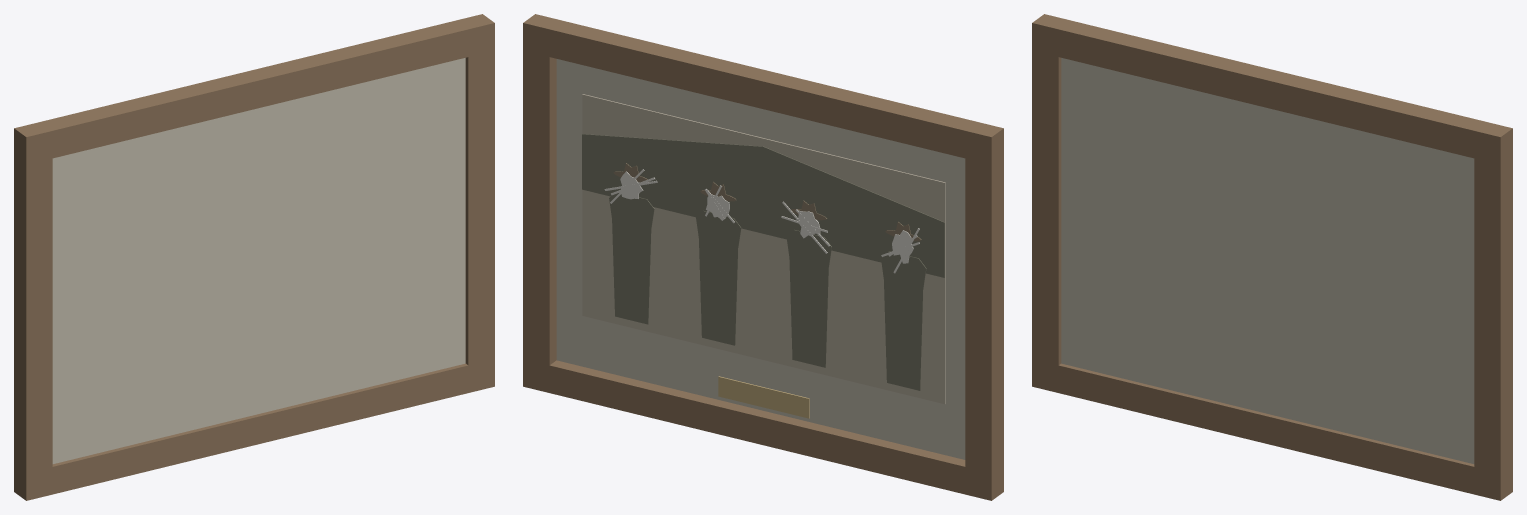
File: ss_staff_photo_a.glb
3 renders of one model, left to right at view 1: azimuth 30°, elevation 25°; view 2: azimuth 150°, elevation 25°; view 3: azimuth 330°, elevation 25°, orthographic.
Visible parts, largest first — view 1: ss_staff_photo_a; view 2: ss_staff_photo_a; view 3: ss_staff_photo_a.
Boxes of the visible parts, box(x1,y1,x2,y2) form: ss_staff_photo_a: box(14, 14, 494, 500); ss_staff_photo_a: box(523, 14, 1003, 500); ss_staff_photo_a: box(1032, 14, 1512, 500).
Bounding box in the file's own units: 0.62 × 0.46 × 0.028.
